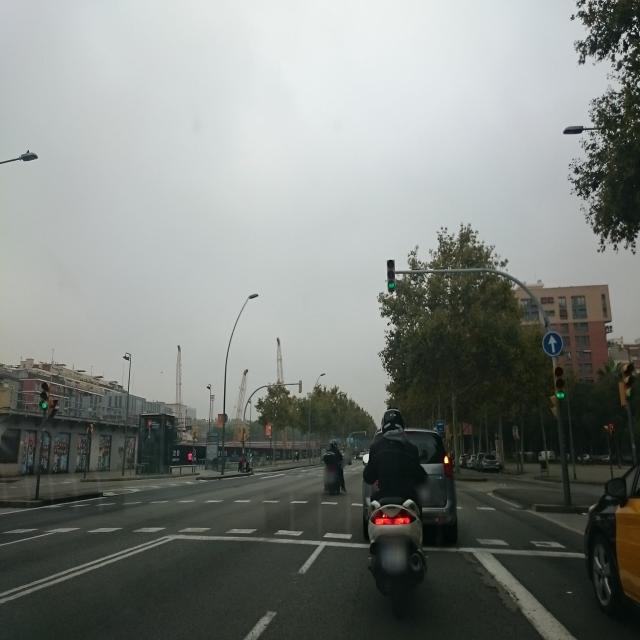bike: (358, 449, 439, 623), (320, 452, 347, 496)
car: (583, 406, 640, 640), (358, 425, 464, 542), (479, 453, 501, 472), (538, 448, 556, 462), (464, 454, 476, 469)
